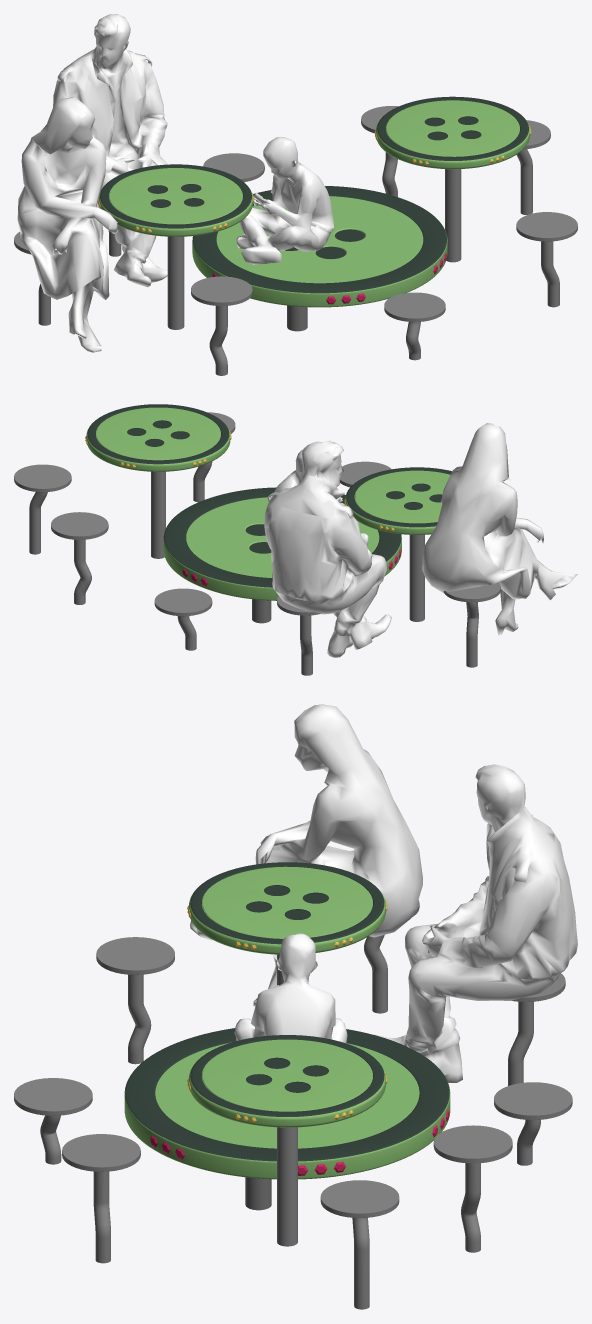
The picture shows the model from 3 angles, top to bottom: view 1: azimuth 30°, elevation 25°; view 2: azimuth 150°, elevation 25°; view 3: azimuth 270°, elevation 25°; orthographic projection. The views are drawn at different scales.
Visible parts, largest first — view 1: seated_girl005, male sit001, center_004, button_table006, button_table005, Rim_004, Boy_sit, Line011, Line012, Circle020, Circle024, Circle023 (+9 smaller); view 2: male sit001, seated_girl005, button_table006, button_table005, center_004, Rim_004, Circle019, Circle025, Circle021, Line011, Line012, Line015 (+9 smaller); view 3: male sit001, seated_girl005, Rim_004, button_table006, button_table005, center_004, Boy_sit, Line012, Circle019, Circle025, Circle021, Circle023 (+11 smaller).
Part boxes in pixels (x1,y1,x2,y2): seated_girl005: [17, 97, 118, 352]; male sit001: [53, 14, 168, 287]; center_004: [216, 196, 423, 283]; button_table006: [376, 96, 529, 169]; button_table005: [99, 164, 252, 236]; Rim_004: [192, 186, 447, 307]; Boy_sit: [236, 137, 333, 264]; Line011: [167, 236, 184, 329]; Line012: [445, 169, 461, 262]; Circle020: [516, 212, 577, 241]; Circle024: [384, 292, 445, 321]; Circle023: [191, 276, 252, 305]; male sit001: [264, 440, 391, 657]; seated_girl005: [422, 423, 577, 635]; button_table006: [86, 404, 230, 471]; button_table005: [345, 467, 451, 534]; center_004: [186, 497, 379, 577]; Rim_004: [163, 487, 401, 600]; Circle019: [51, 512, 108, 539]; Circle025: [154, 588, 212, 616]; Circle021: [14, 464, 71, 492]; Line011: [409, 535, 424, 621]; Line012: [151, 471, 165, 558]; Line015: [74, 539, 91, 604]; male sit001: [373, 764, 577, 1082]; seated_girl005: [190, 704, 422, 1006]; Rim_004: [124, 1028, 450, 1179]; button_table006: [189, 1035, 385, 1127]; button_table005: [189, 862, 385, 954]; center_004: [155, 1042, 419, 1148]; Boy_sit: [234, 933, 347, 1043]; Line012: [277, 1127, 297, 1246]; Circle019: [433, 1125, 512, 1163]; Circle025: [494, 1082, 572, 1119]; Circle021: [320, 1180, 399, 1217]; Circle023: [96, 937, 174, 974].
Size of the model in its own units: 3 by 1.31 by 2.14.
